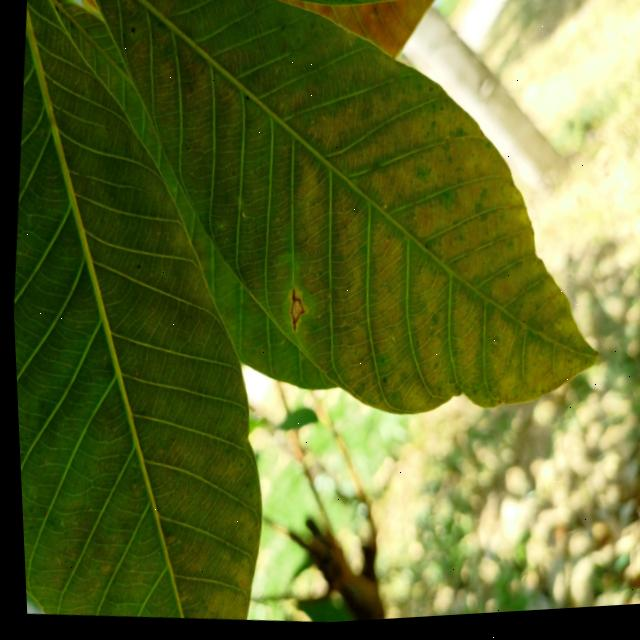Colletotrichum: (130, 26, 135, 35)
Corynespora: (283, 288, 305, 335)
